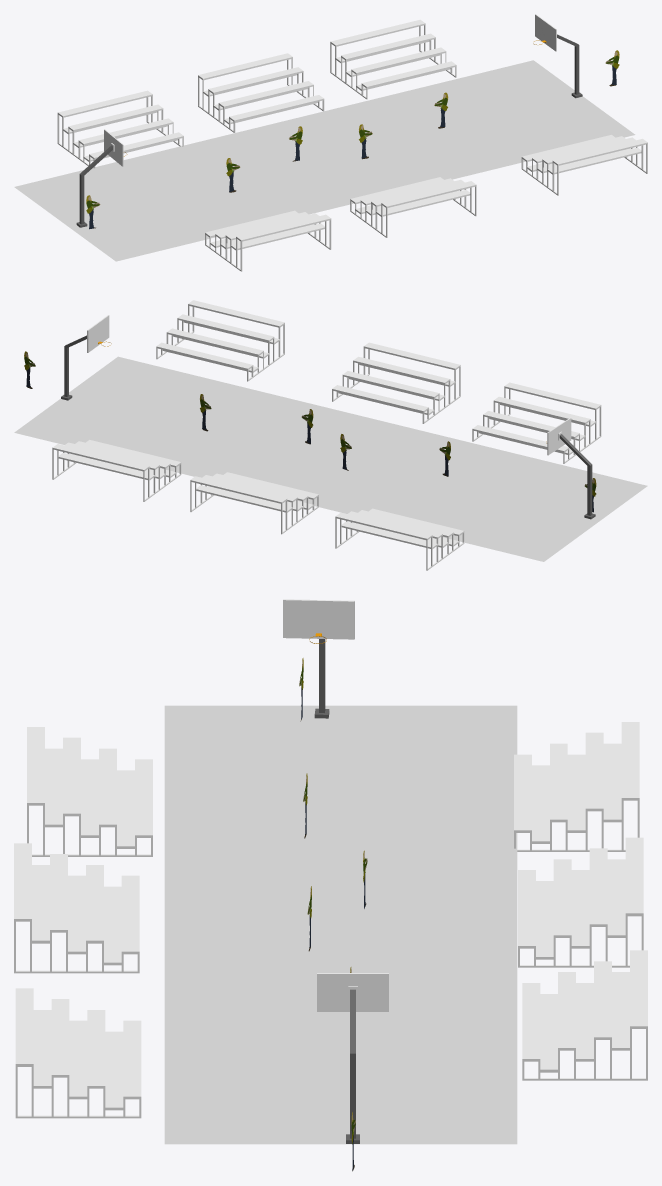
3 renders of one model, top to bottom at view 1: azimuth 30°, elevation 25°; view 2: azimuth 150°, elevation 25°; view 3: azimuth 270°, elevation 25°, orthographic. The views are drawn at different scales.
Visible parts, largest first — view 1: skp4061_001, Component5_003, Component5_001, Component5_005, Component5_011, Component5_007, Component5_009, Component1_003, Component2_001, Component2_003, Component1_001; view 2: skp4061_001, Component5_007, Component5_009, Component5_011, Component5_003, Component5_005, Component5_001, Component1_003, Component2_001, Component2_003; view 3: skp4061_001, Component5_007, Component5_009, Component5_005, Component5_003, Component5_001, Component5_011, Component2_003, Component2_001, Component1_001.
Boxes of the visible parts, x1,y1,x2,y2 form: skp4061_001: (14, 60, 635, 261); Component5_003: (198, 53, 324, 132); Component5_001: (330, 19, 456, 99); Component5_005: (57, 90, 183, 168); Component5_011: (205, 210, 331, 271); Component5_007: (521, 135, 647, 195); Component5_009: (350, 177, 476, 237); Component1_003: (76, 143, 114, 227); Component2_001: (533, 14, 556, 51); Component2_003: (104, 129, 127, 166); Component1_001: (557, 34, 582, 98); skp4061_001: (14, 356, 647, 561); Component5_007: (156, 300, 284, 381); Component5_009: (332, 342, 460, 423); Component5_011: (472, 382, 601, 463); Component5_003: (190, 472, 318, 534); Component5_005: (335, 508, 464, 570); Component5_001: (52, 440, 181, 501); Component1_003: (558, 431, 595, 519); Component2_001: (87, 315, 111, 352); Component2_003: (546, 418, 571, 455); skp4061_001: (164, 705, 517, 1144); Component5_007: (15, 988, 141, 1118); Component5_009: (14, 843, 139, 973); Component5_005: (514, 722, 639, 851); Component5_003: (518, 837, 643, 967); Component5_001: (522, 950, 647, 1080); Component5_011: (27, 727, 152, 856); Component2_003: (283, 599, 354, 643); Component2_001: (317, 973, 388, 1011); Component1_001: (346, 986, 359, 1143).
Bounding box in the file's own units: 28339 × 4064 × 16131.
